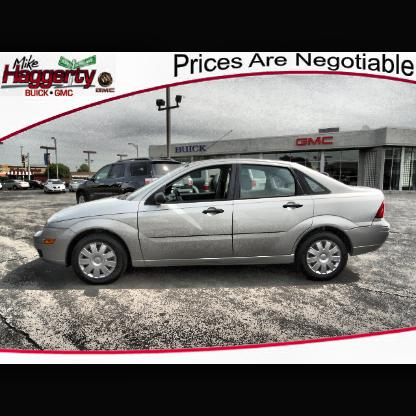Ford Focus Sedan 2007: (34, 159, 392, 285)
